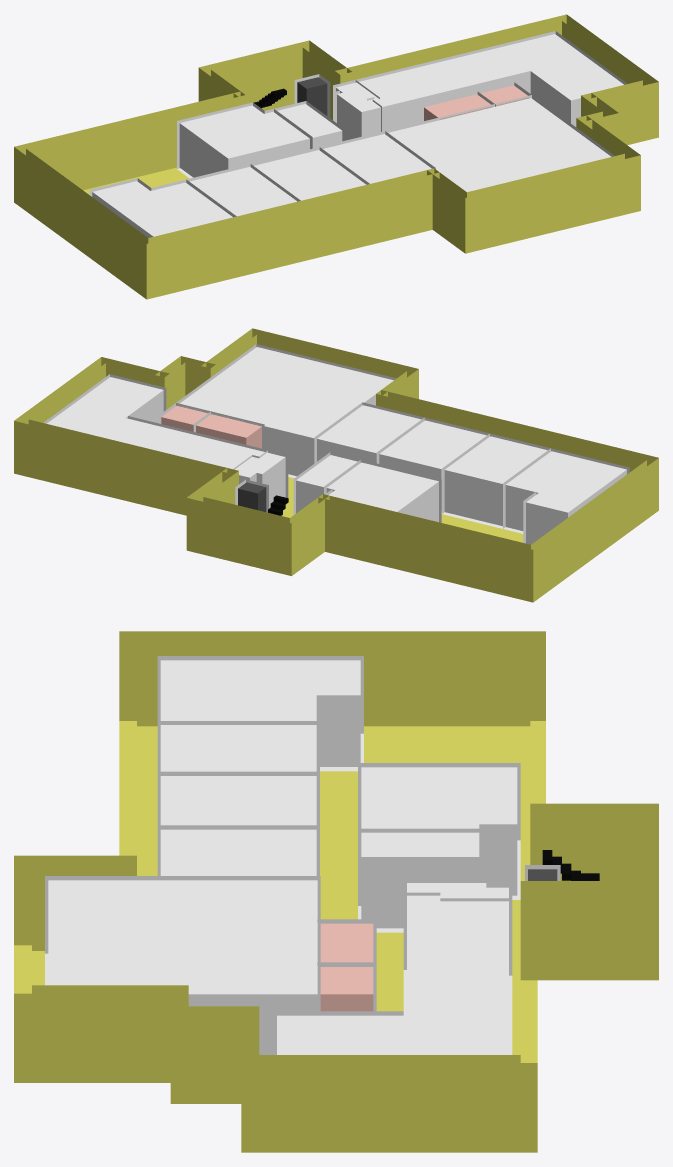
3 views of the same model, one above another, from view 1: azimuth 30°, elevation 25°; view 2: azimuth 150°, elevation 25°; view 3: azimuth 270°, elevation 25° (orthographic). The views are drawn at different scales.
Visible parts, largest first — view 1: object, room_L_5_7, room_L_5_4, room_L_5_2, room_L_5_6, room_L_5_3, room_L_5_8, room_L_5_1, room_L_5_5, object_line.005, トイレ_L_5_2, エレベーター_L_5_1 (+7 smaller); view 2: object, room_L_5_4, room_L_5_7, room_L_5_6, room_L_5_1, room_L_5_2, room_L_5_3, room_L_5_8, room_L_5_5, トイレ_L_5_2, object_line.005, object_line.010 (+7 smaller); view 3: object, room_L_5_4, room_L_5_7, room_L_5_6, room_L_5_2, room_L_5_3, room_L_5_8, room_L_5_5, room_L_5_1, object_line.005, トイレ_L_5_1, トイレ_L_5_2 (+7 smaller).
Part boxes in pixels (x1,y1,x2,y2): object: (14, 14, 658, 299); room_L_5_7: (336, 34, 623, 140); room_L_5_4: (388, 98, 611, 191); room_L_5_2: (179, 105, 309, 177); room_L_5_6: (92, 181, 232, 237); room_L_5_3: (254, 150, 366, 200); room_L_5_8: (323, 134, 431, 183); room_L_5_1: (189, 167, 296, 216); room_L_5_5: (275, 104, 342, 149); object_line.005: (333, 31, 627, 131); トイレ_L_5_2: (424, 94, 493, 120); エレベーター_L_5_1: (297, 77, 327, 115); object: (14, 328, 658, 602); room_L_5_4: (177, 347, 393, 476); room_L_5_7: (47, 377, 285, 508); room_L_5_6: (505, 451, 626, 544); room_L_5_1: (444, 436, 547, 526); room_L_5_2: (326, 462, 438, 522); room_L_5_3: (379, 420, 486, 510); room_L_5_8: (317, 405, 421, 463); room_L_5_5: (296, 455, 359, 513); トイレ_L_5_2: (196, 414, 261, 448); object_line.005: (43, 374, 288, 497); object_line.010: (503, 448, 629, 543); object: (14, 631, 658, 1152); room_L_5_4: (48, 880, 317, 1054); room_L_5_7: (277, 883, 508, 1054); room_L_5_6: (160, 660, 360, 766); room_L_5_2: (361, 767, 517, 895); room_L_5_3: (160, 776, 316, 825); room_L_5_8: (160, 829, 316, 880); room_L_5_5: (361, 832, 479, 928); room_L_5_1: (160, 725, 316, 771); object_line.005: (273, 878, 512, 1054); トイレ_L_5_1: (320, 967, 373, 1011); トイレ_L_5_2: (320, 923, 373, 962).
Size of the model in its own units: 2.36 by 0.2287 by 1.49.
